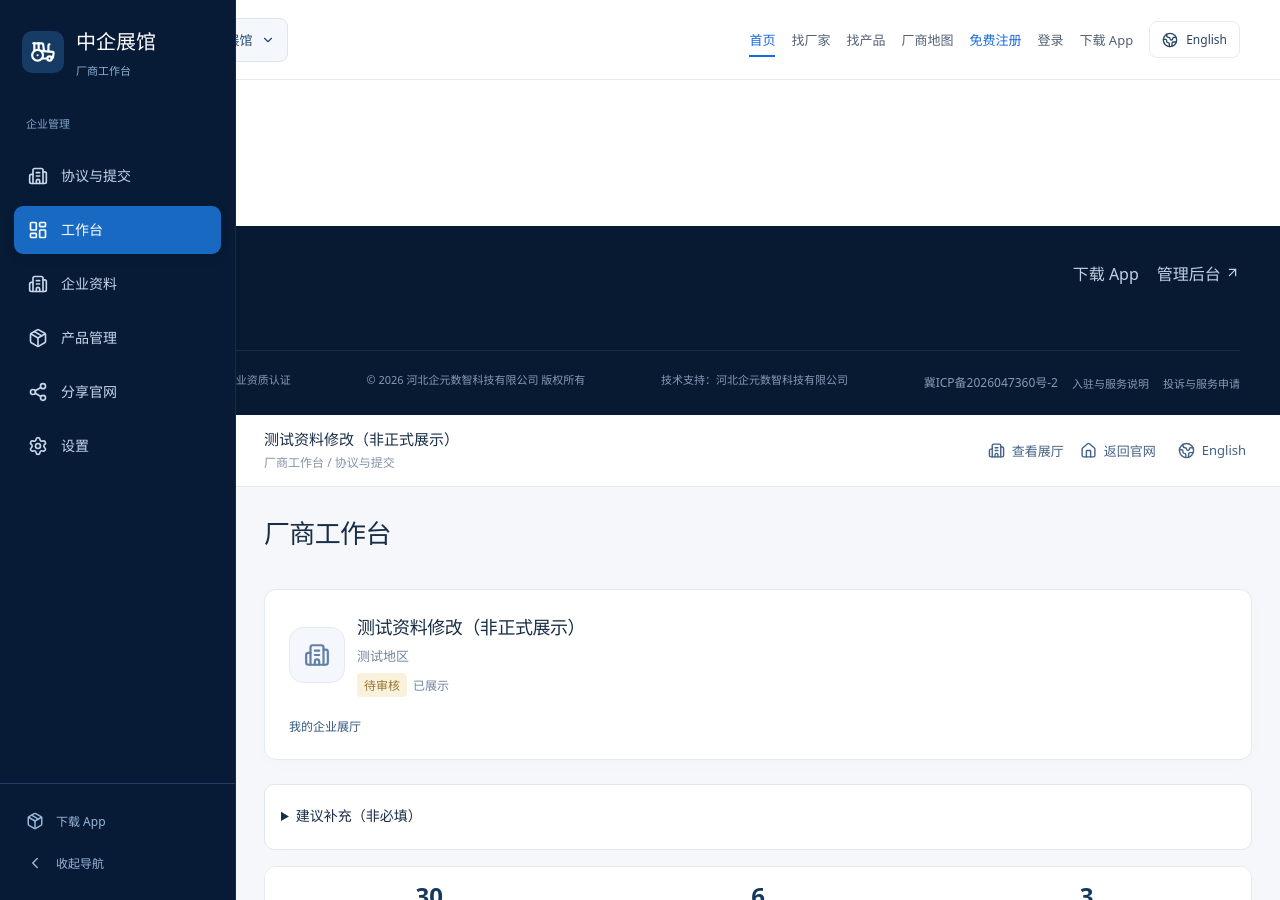
Test: keeps vendor and full-account stats across language and management routes
(page scrolled)
Click the button with aria-label "Switch to English": click(1212, 450) [1172,428,1252,472]
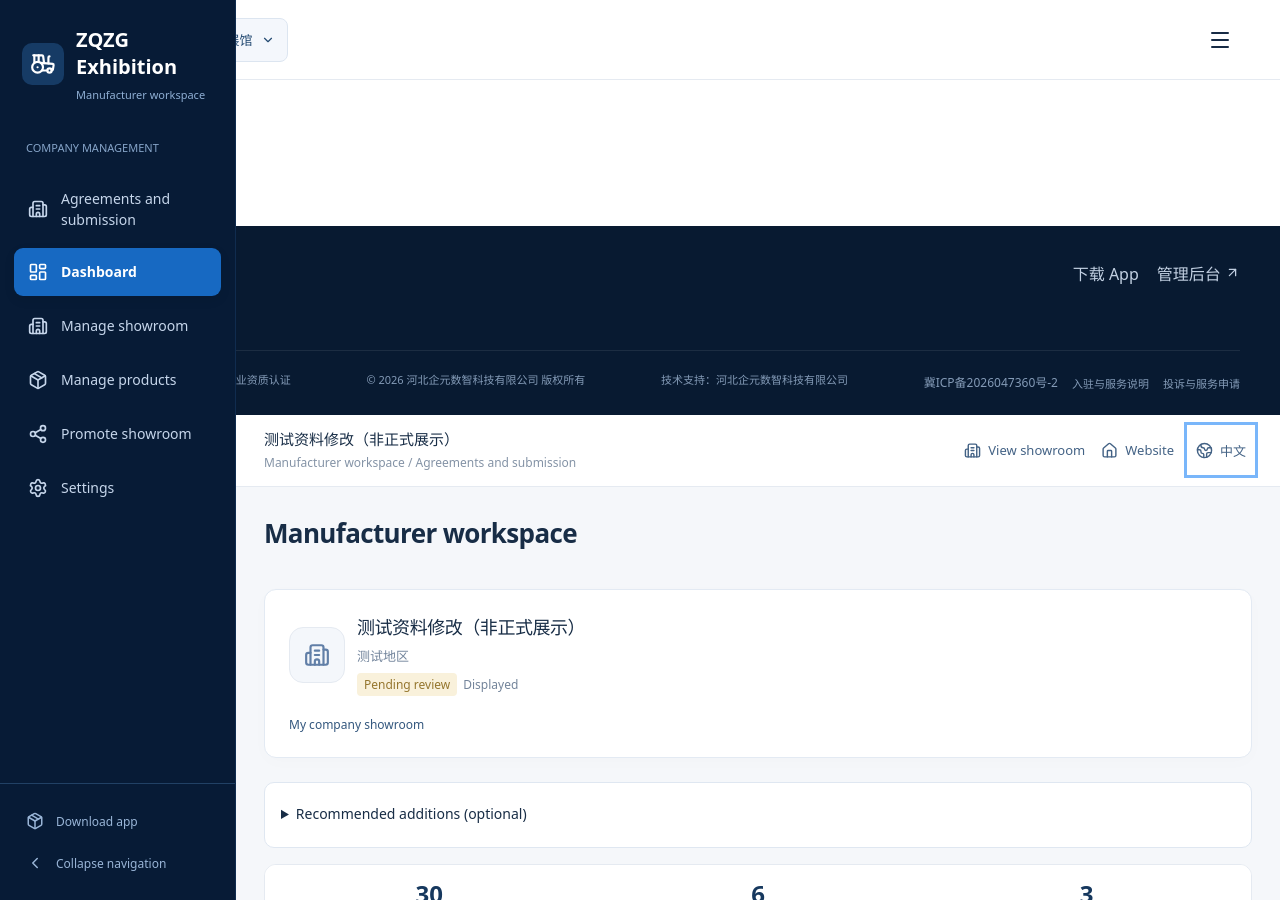
Click the link "Manage showroom": click(108, 326) [28,316,188,336]
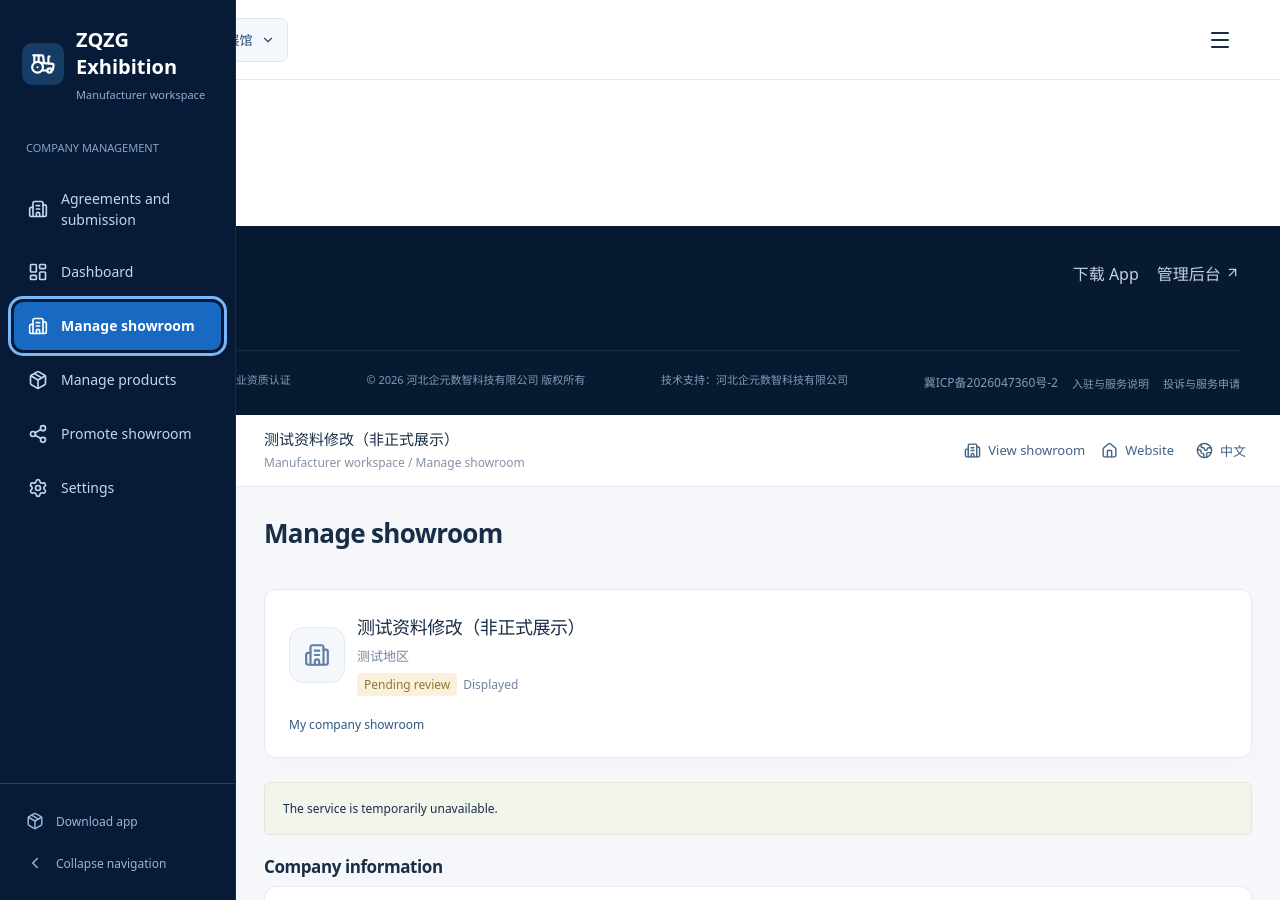
Check: the heading "Company information" is shown, box [264,855,443,878]
